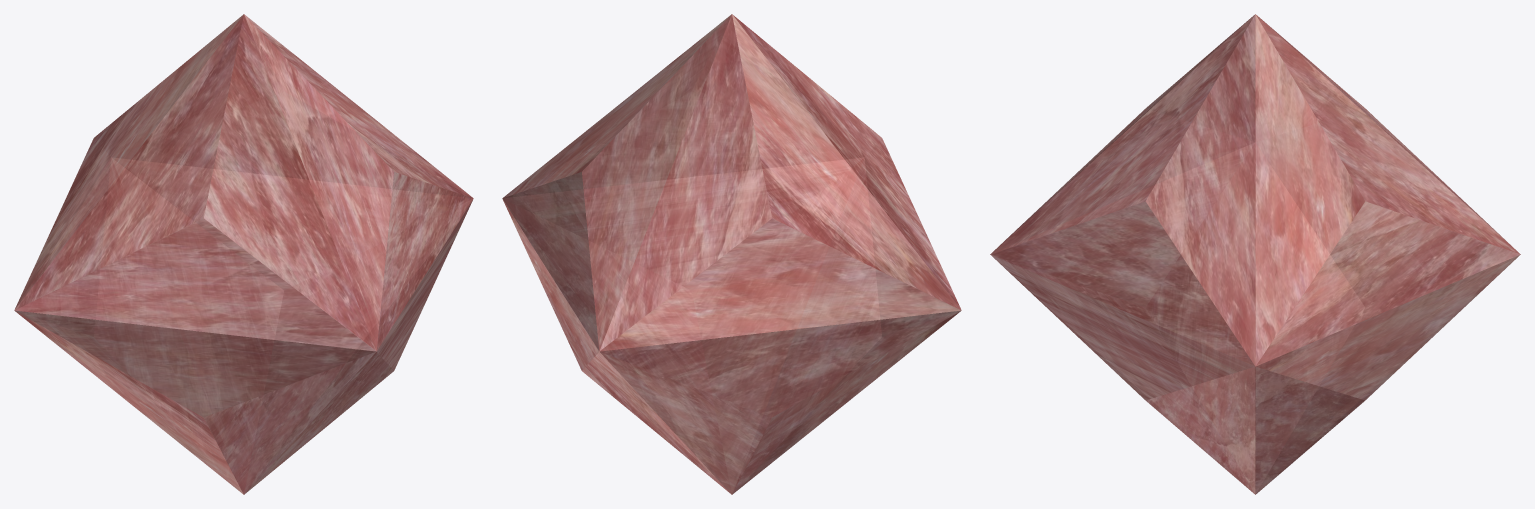
Rendered from TriakisOctahedron.obj.
The picture shows the model from 3 angles, left to right: view 1: azimuth 30°, elevation 25°; view 2: azimuth 150°, elevation 25°; view 3: azimuth 270°, elevation 25°; orthographic projection.
Bounding box in the file's own units: 4.83 × 4.83 × 4.83.
1 material, 1 textured.
